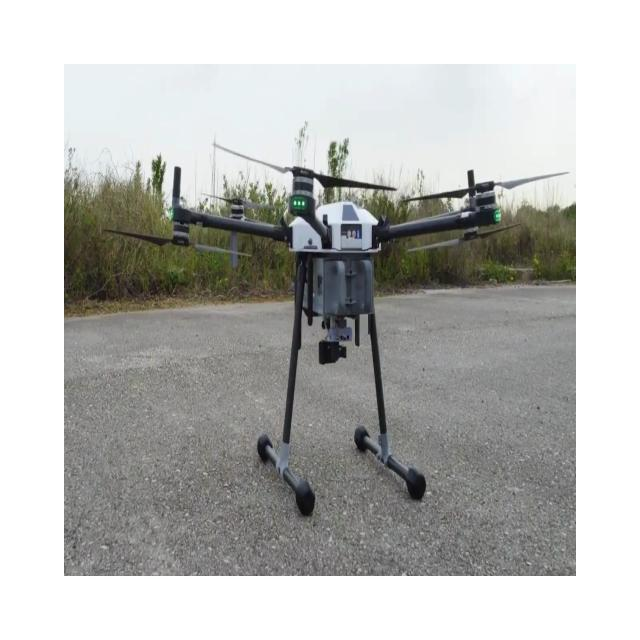drone: (101, 137, 570, 516)
